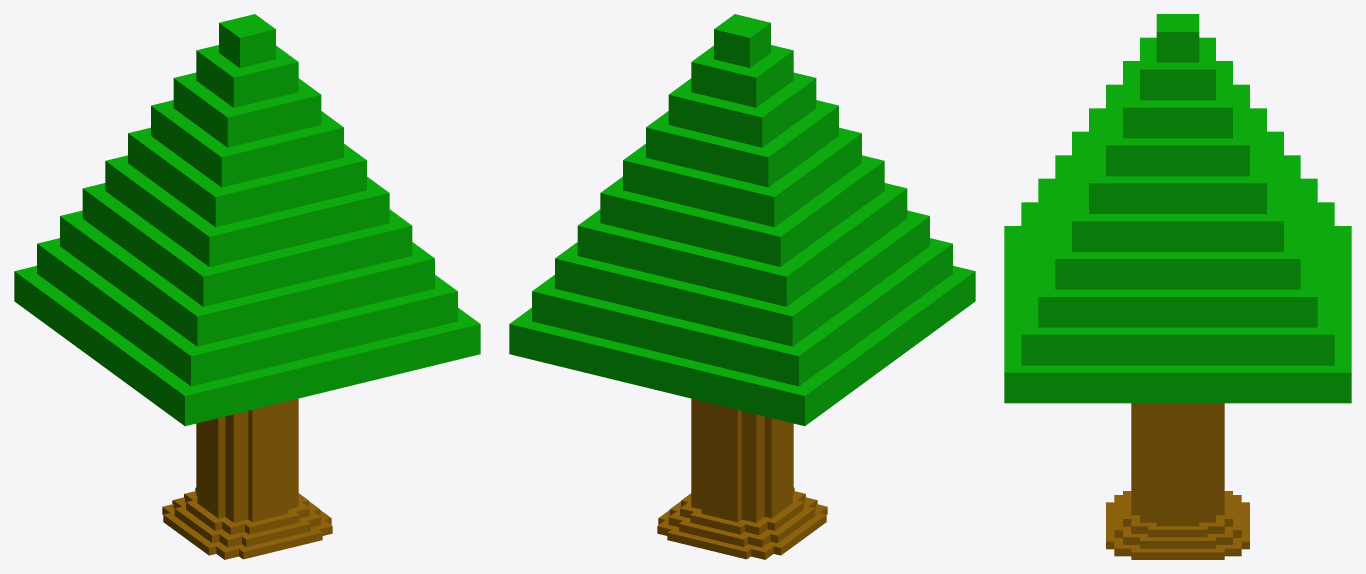
Rendered from tree04-3.fbx.
3 renders of one model, left to right at view 1: azimuth 30°, elevation 25°; view 2: azimuth 150°, elevation 25°; view 3: azimuth 270°, elevation 25°, orthographic.
Visible parts, largest first — view 1: Tree04-3, Tree02-Stem, Tree02-Root; view 2: Tree04-3, Tree02-Stem, Tree02-Root; view 3: Tree04-3, Tree02-Stem, Tree02-Root.
Boxes of the visible parts, x1,y1,x2,y2 form: Tree04-3: [14, 14, 480, 426]; Tree02-Stem: [196, 398, 298, 522]; Tree02-Root: [162, 487, 332, 559]; Tree04-3: [509, 14, 975, 426]; Tree02-Stem: [691, 398, 793, 522]; Tree02-Root: [657, 487, 827, 559]; Tree04-3: [1004, 14, 1351, 403]; Tree02-Stem: [1131, 403, 1224, 526]; Tree02-Root: [1106, 491, 1249, 559].
Bounding box in the file's own units: 410 × 660 × 410.
